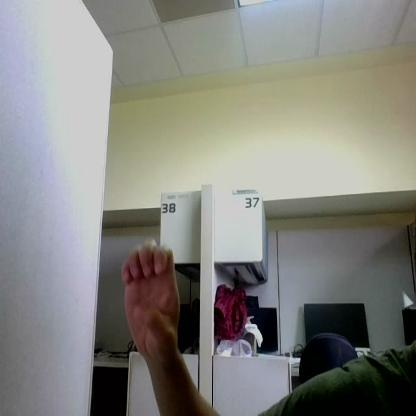E: (122, 240, 180, 354)
